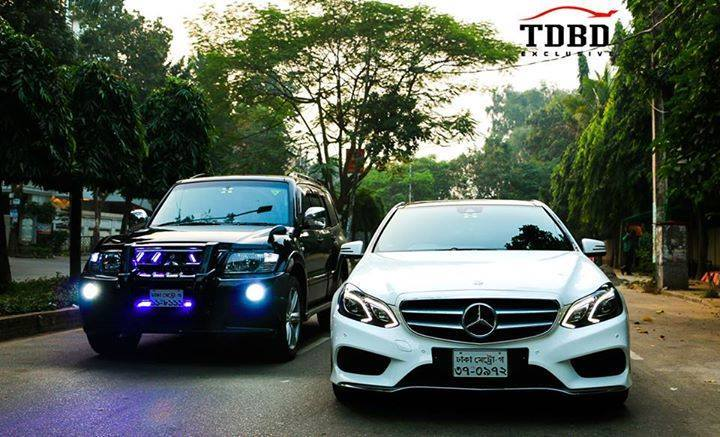registration_plate: (453, 349, 508, 377), (149, 288, 184, 308)
